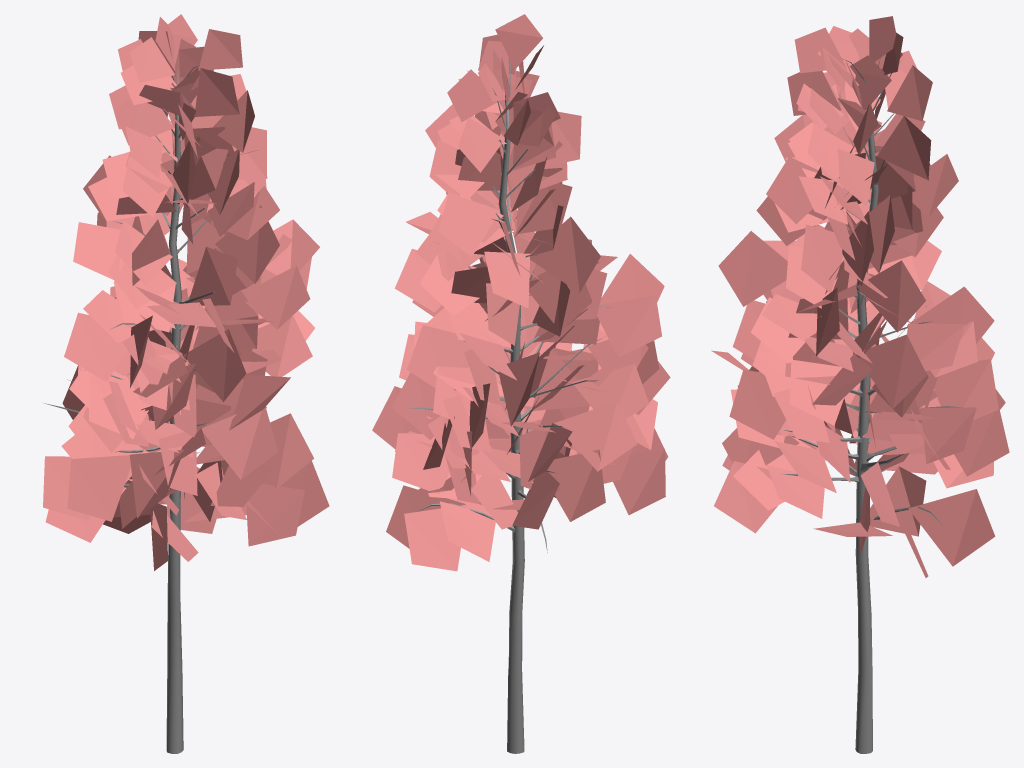
The model's file is Woods_Tree_LowPoly_001.gltf.
The picture shows the model from 3 angles, left to right: view 1: azimuth 30°, elevation 25°; view 2: azimuth 150°, elevation 25°; view 3: azimuth 270°, elevation 25°; orthographic projection. The views are drawn at different scales.
Parts seen in each view (by area): view 1: Woods_Tree_LowPoly_001; view 2: Woods_Tree_LowPoly_001; view 3: Woods_Tree_LowPoly_001.
Boxes of the visible parts, <box> form: Woods_Tree_LowPoly_001: <box>43,14,329,753</box>; Woods_Tree_LowPoly_001: <box>372,14,670,753</box>; Woods_Tree_LowPoly_001: <box>711,16,1009,753</box>.
Size of the model in its own units: 4.71 by 12.57 by 4.77.
